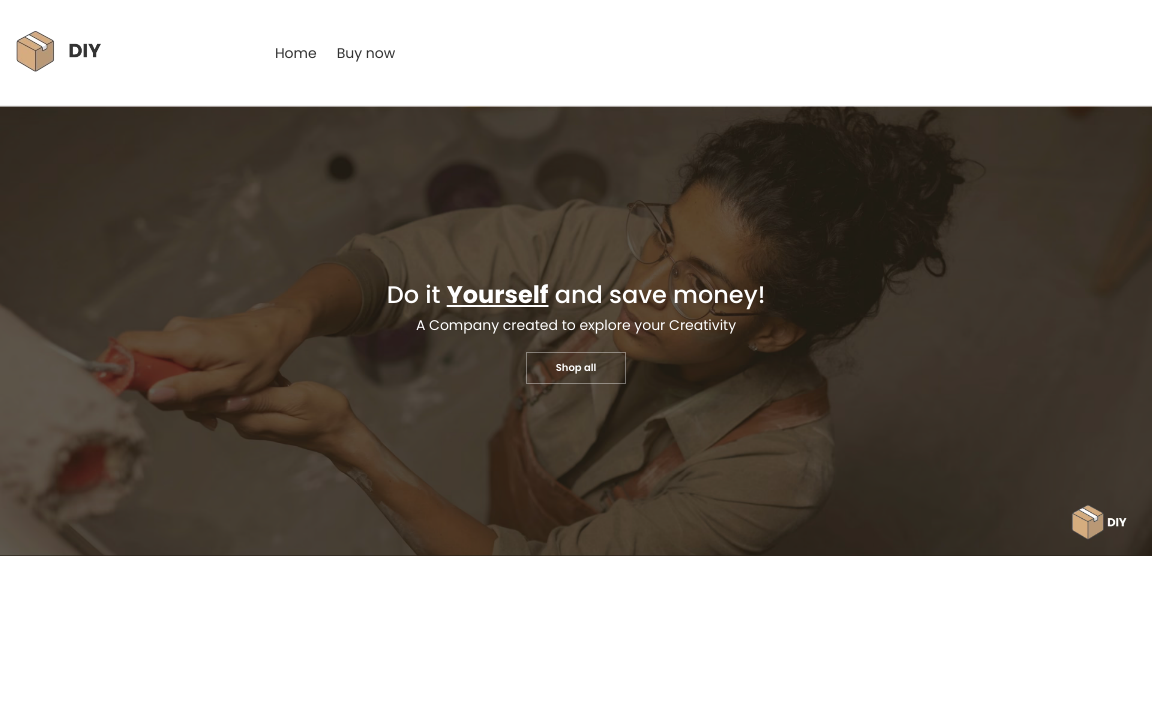
Test case: navigation-bar should work fine › should render products page
Click the link "Buy now" at (366, 52), box [337, 42, 395, 62]
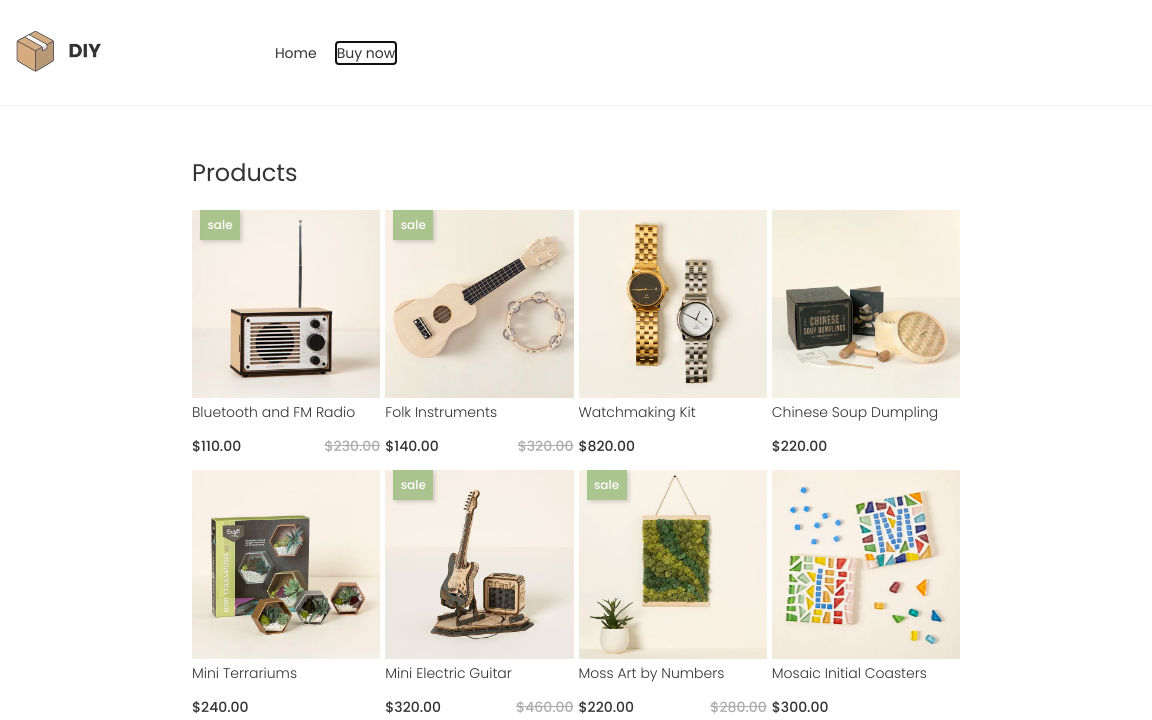
Check: the heading "Products" is shown, box [192, 156, 298, 189]
